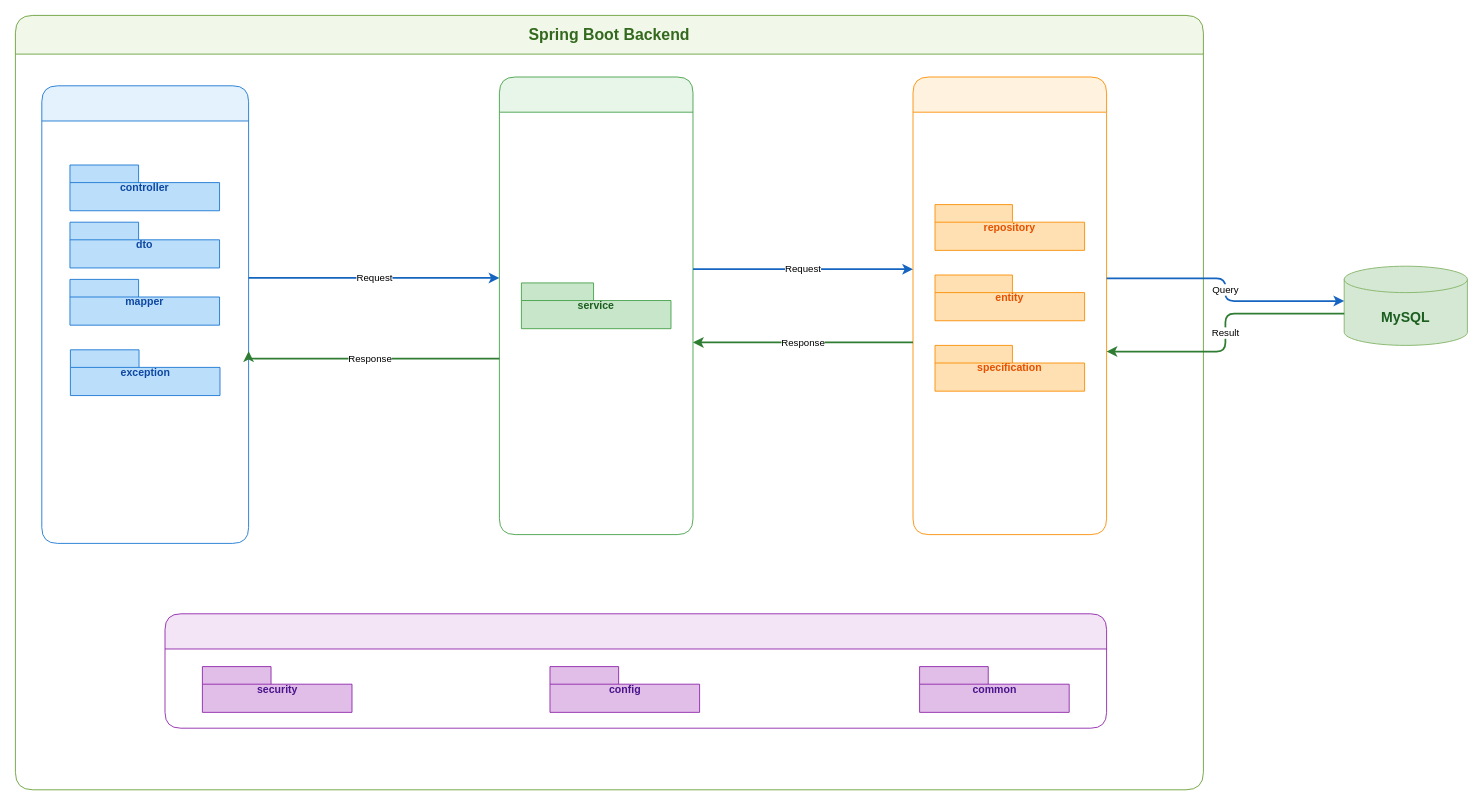
This 1483x805 diagram has some shape labels left out. The box of each missing label's shape, as (x1, y1, x2, y2) in pixels:
Business Logic: (499, 76, 693, 535)
Data Access: (912, 76, 1107, 535)
Presentation: (41, 85, 249, 543)
Security & Config: (164, 613, 1107, 728)
